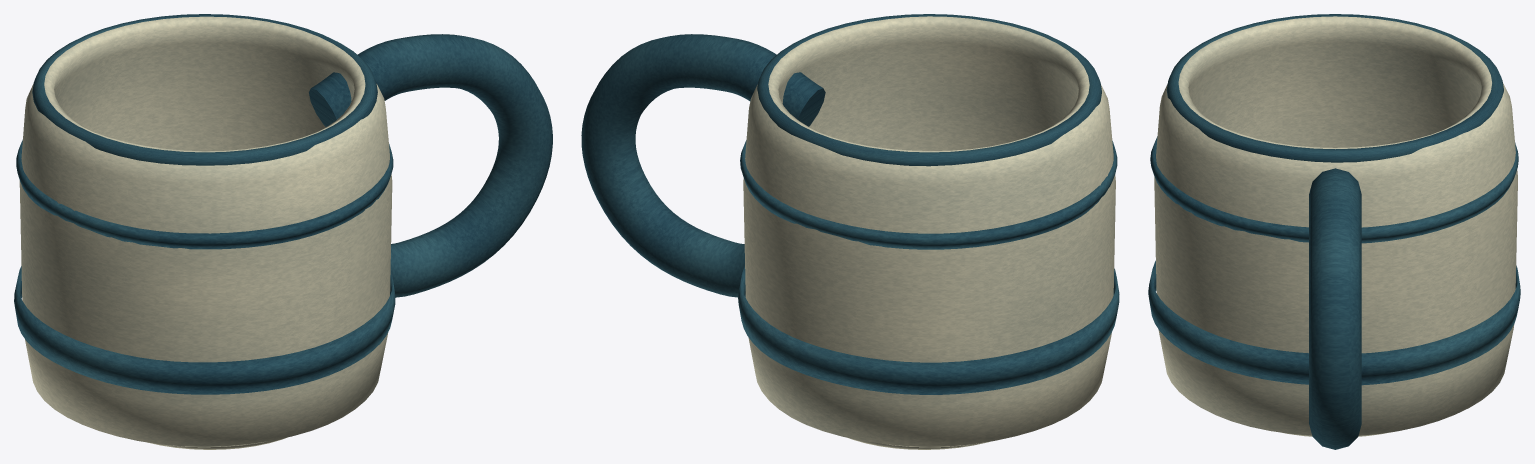
File: MugClassic.fbx
3 renders of one model, left to right at view 1: azimuth 30°, elevation 25°; view 2: azimuth 150°, elevation 25°; view 3: azimuth 270°, elevation 25°, orthographic. The views are drawn at different scales.
Parts seen in each view (by area): view 1: Thick stoneware body, Large ear handle, Hand painted glaze band, Rolled drinking rim, Hand painted glaze band.001; view 2: Thick stoneware body, Large ear handle, Hand painted glaze band, Rolled drinking rim, Hand painted glaze band.001; view 3: Thick stoneware body, Large ear handle, Hand painted glaze band, Rolled drinking rim, Hand painted glaze band.001.
Boxes of the visible parts, <box> form: Thick stoneware body: <box>19,16,392,447</box>; Large ear handle: <box>309,34,552,297</box>; Hand painted glaze band: <box>14,266,395,394</box>; Rolled drinking rim: <box>32,14,377,165</box>; Hand painted glaze band.001: <box>16,139,393,249</box>; Thick stoneware body: <box>743,16,1115,447</box>; Large ear handle: <box>581,34,825,297</box>; Hand painted glaze band: <box>738,266,1119,394</box>; Rolled drinking rim: <box>757,14,1101,166</box>; Hand painted glaze band.001: <box>740,140,1117,249</box>; Thick stoneware body: <box>1154,16,1517,436</box>; Large ear handle: <box>1309,168,1361,449</box>; Hand painted glaze band: <box>1148,260,1520,385</box>; Rolled drinking rim: <box>1166,14,1503,162</box>; Hand painted glaze band.001: <box>1150,136,1518,243</box>.
Bounding box in the file's own units: 19.56 × 11.48 × 12.7.
